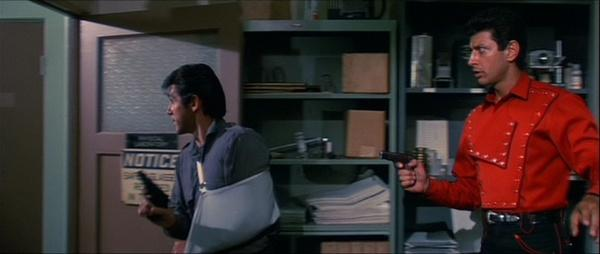Gun: (137, 170, 170, 212), (378, 149, 418, 167)
